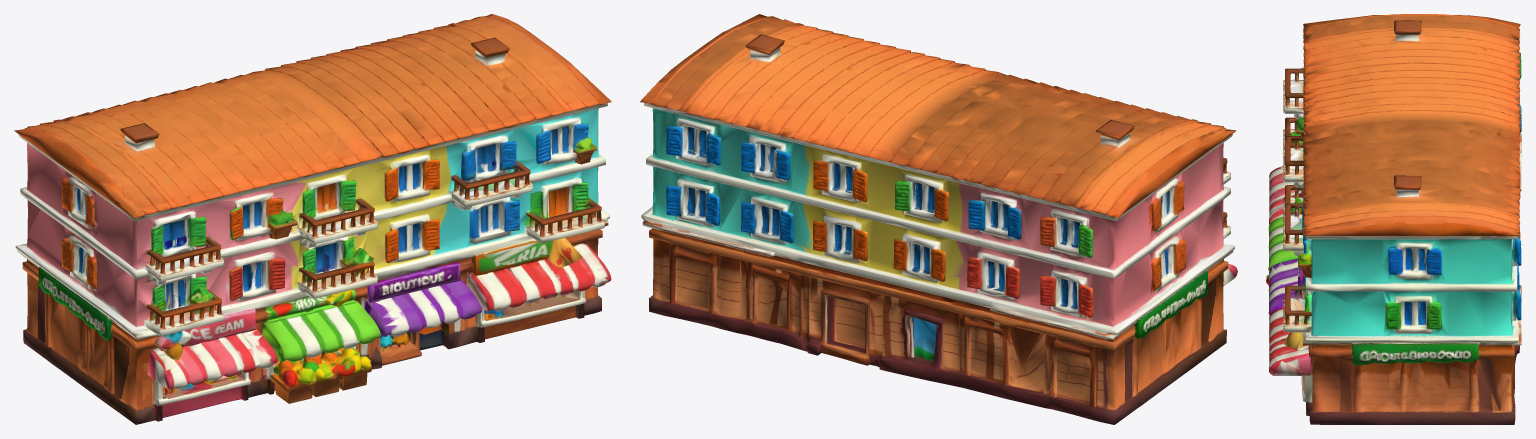
File: immeuble_large2.glb
3 renders of one model, left to right at view 1: azimuth 30°, elevation 25°; view 2: azimuth 150°, elevation 25°; view 3: azimuth 270°, elevation 25°, orthographic. The views are drawn at different scales.
Parts seen in each view (by area): view 1: mesh_node; view 2: mesh_node; view 3: mesh_node.
Boxes of the visible parts, x1=… form: mesh_node: x1=14, y1=14, x2=611, y2=424; mesh_node: x1=640, y1=14, x2=1237, y2=424; mesh_node: x1=1266, y1=14, x2=1521, y2=424.
Bounding box in the file's own units: 1.9 × 0.9182 × 0.9711.
1 material, 1 textured.
